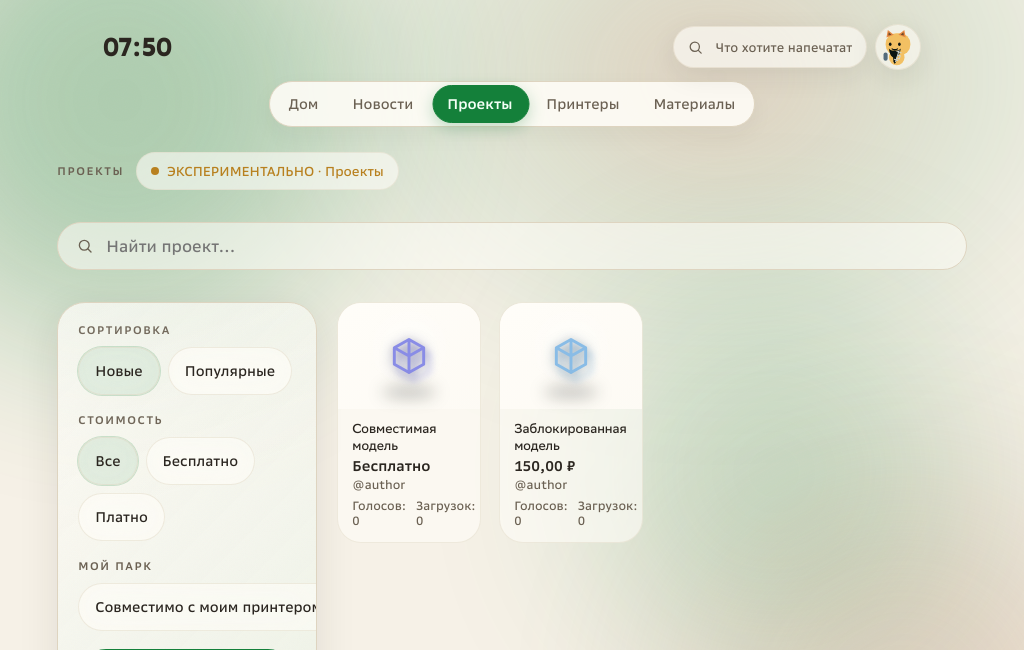
Test: MarketplaceScreen — фильтр «совместимо с моим парком» › включение чипа отсекает модели с verdict=blocked, оставляя совместимые
The image size is (1024, 650).
Check: the text "Совместимая модель" is shown, box [352, 421, 436, 453]
Check: the text "Заблокированная модель" is shown, box [514, 421, 628, 455]
Click the button "Совместимо с моим принтером".
click(209, 607)  # box [78, 583, 339, 631]
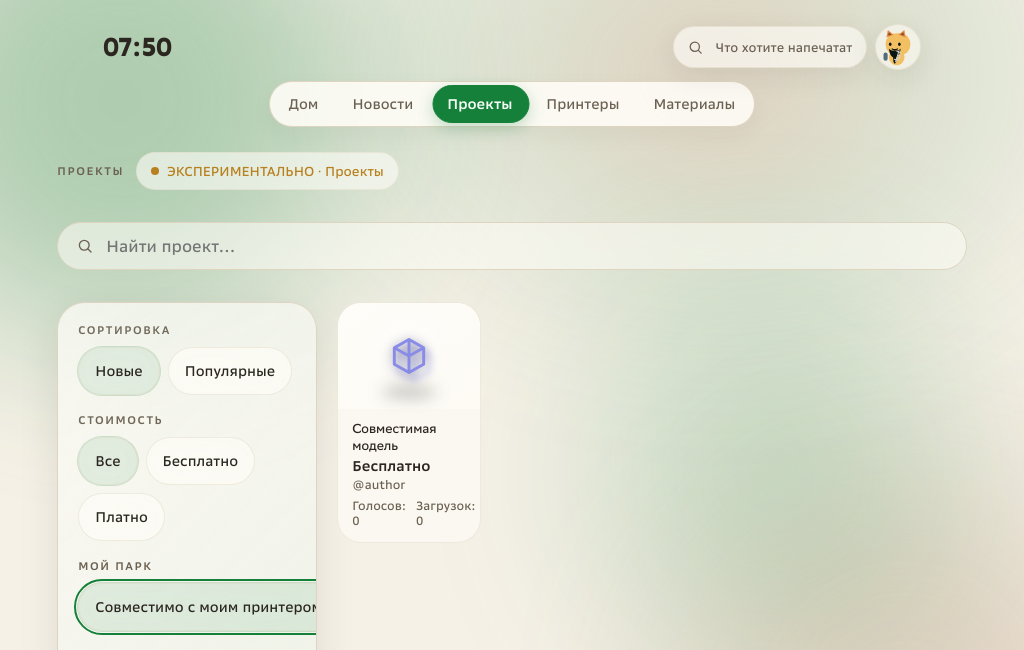
Check: the text "Совместимая модель" is shown, box [352, 421, 436, 453]
Check: the button "Заблокированная модель" is gone
